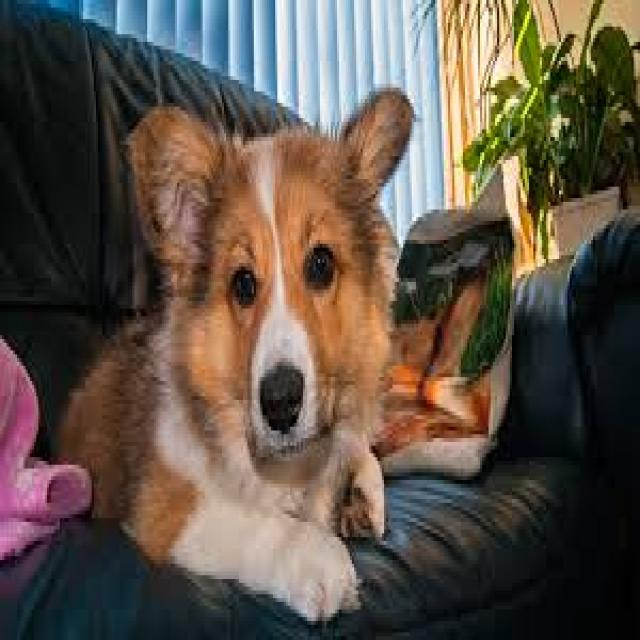CORGI: (64, 61, 430, 595)
